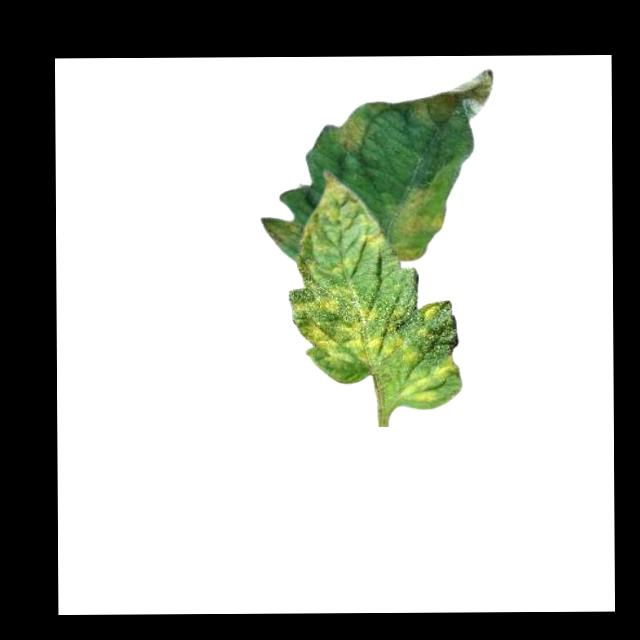Leaf_Mold: (287, 259, 464, 403), (388, 155, 464, 263), (404, 67, 495, 128), (313, 170, 372, 226), (331, 112, 376, 153), (259, 216, 307, 245), (357, 225, 386, 248)
